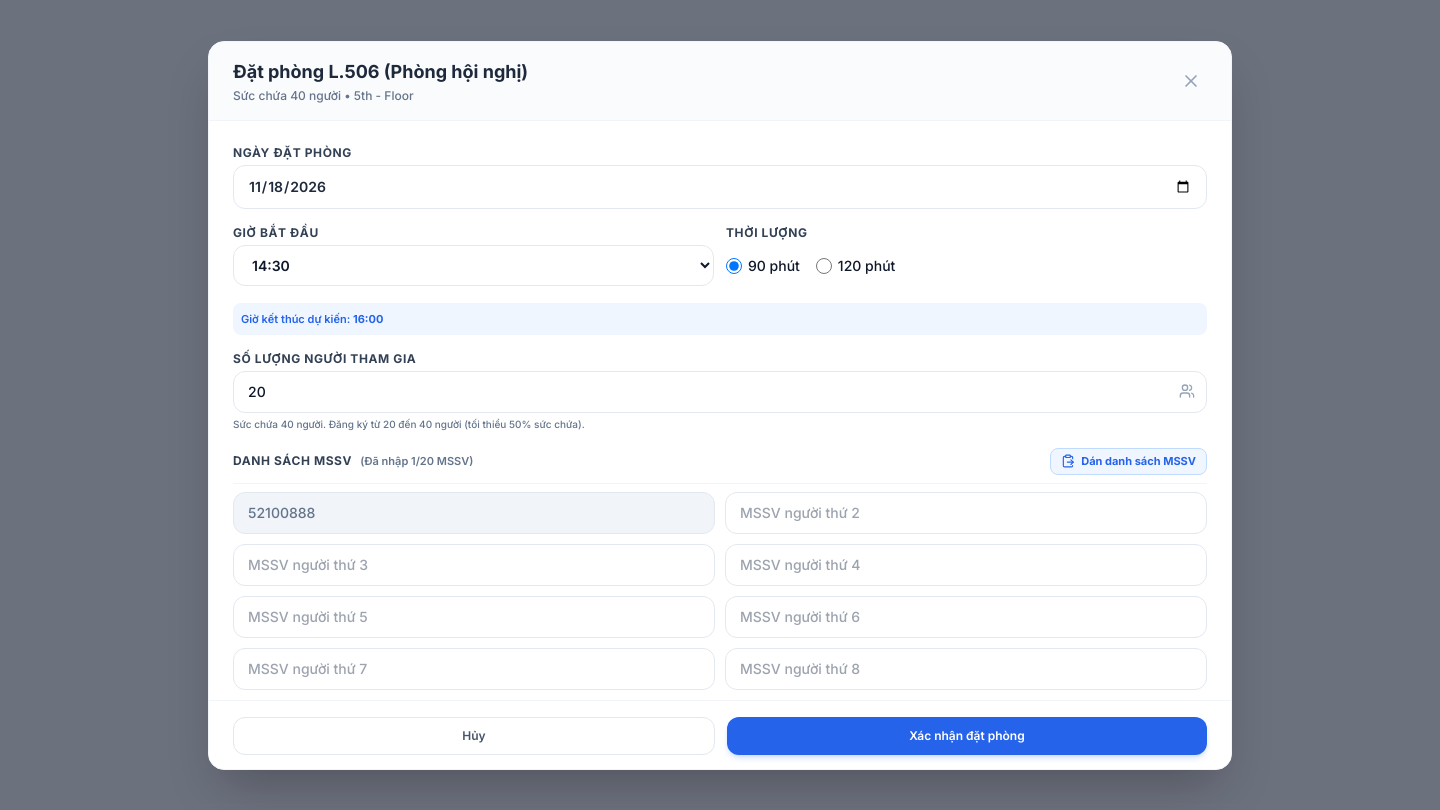
Scenario: BookingModal › hỗ trợ mở ô textarea dán danh sách MSSV và tự động điền vào các ô trống
The width and height of the screenshot is (1440, 810).
# Bấm nút "Dán danh sách MSSV"
Click the button "Dán danh sách MSSV". click: (1129, 461)
box: [1050, 448, 1207, 474]
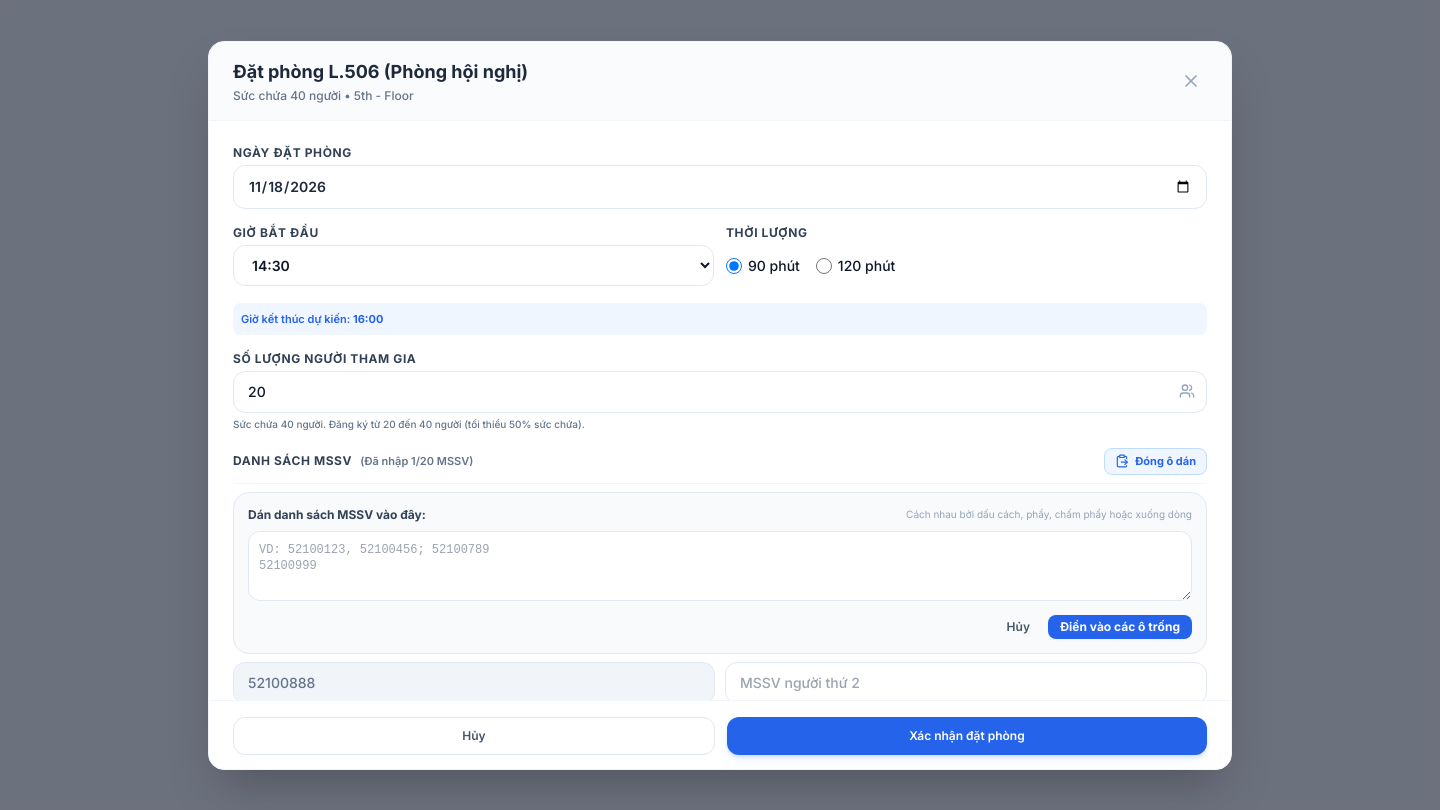
Expected: the text box with placeholder "VD: 52100123, 52100456; 52100789 52100999" is shown
Type "       52100888, 52100111; 52100222       52100333 52100111; 52100444     " into the text box with placeholder "VD: 52100123, 52100456; 52100789 52100999". click: (720, 566)
box: [248, 530, 1192, 600]
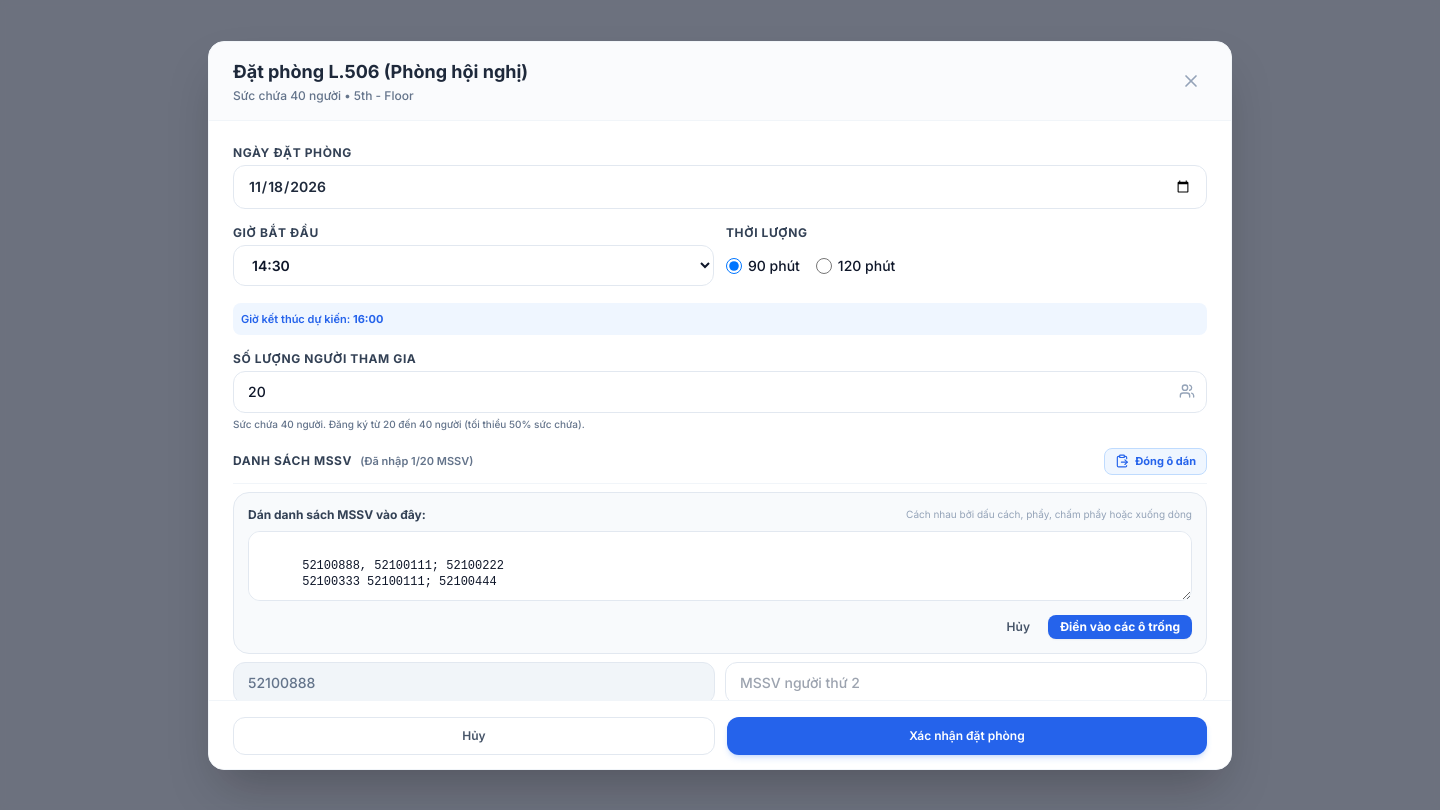
# Bấm "Điền vào các ô trống"
Click the button "Điền vào các ô trống". click: (1120, 626)
box: [1048, 614, 1192, 638]
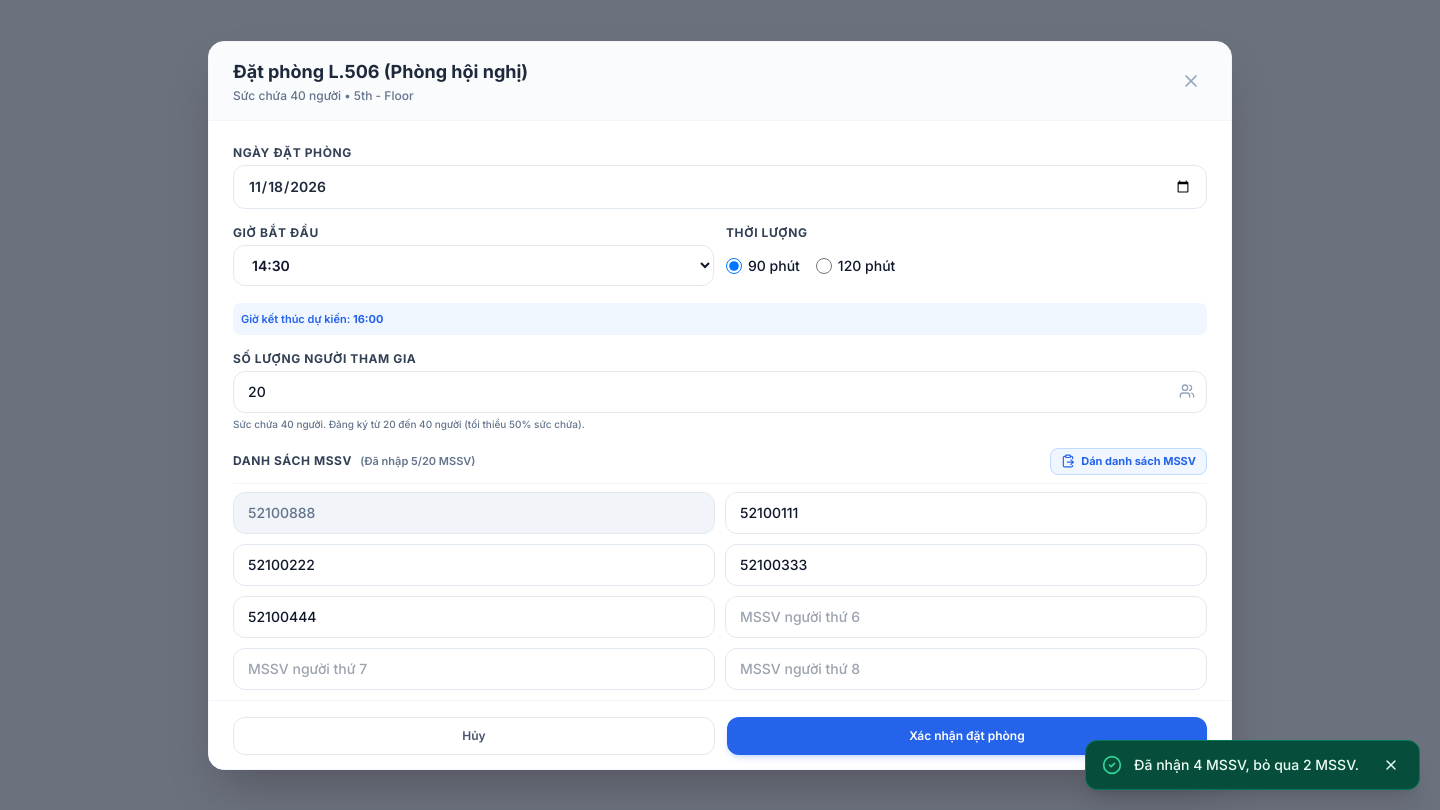
Expected: the 2nd field with placeholder "MSSV người thứ 2" holds "52100111", [725, 492, 1207, 534]
Expected: the 3rd field with placeholder "MSSV người thứ 3" holds "52100222", [233, 544, 715, 586]
Expected: the 4th field with placeholder "MSSV người thứ 4" holds "52100333", [725, 544, 1207, 586]
